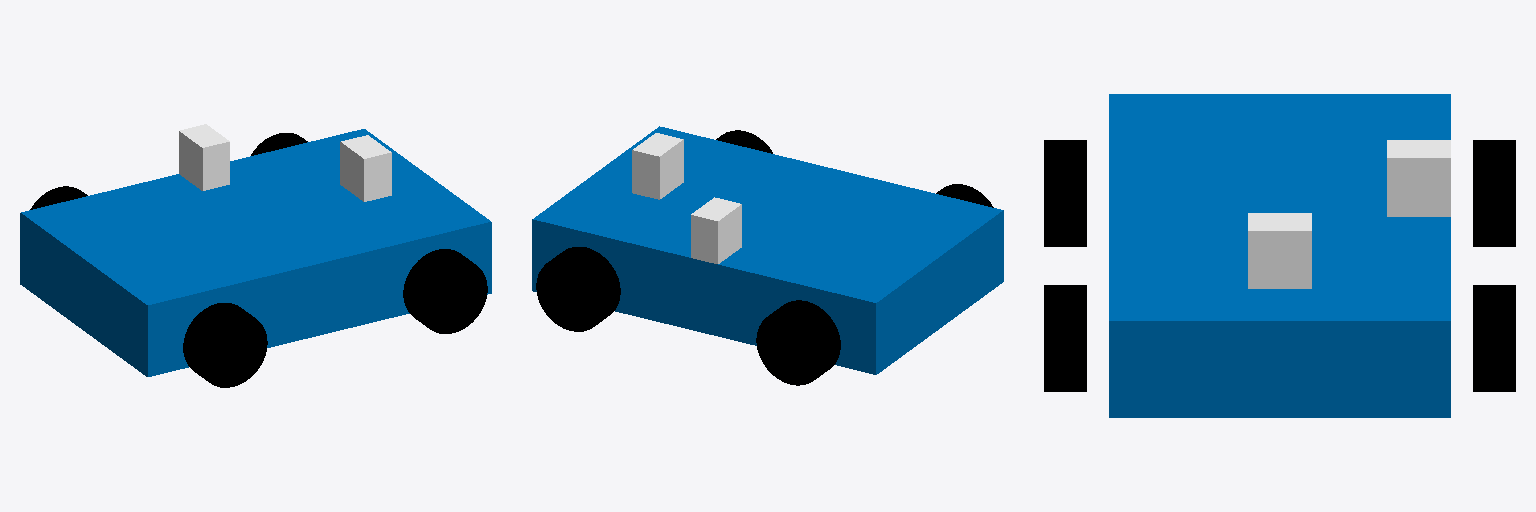
robot.urdf — clean_car:
<?xml version="1.0"?> 
<robot name="clean_car">

    <link name="base_footprint">
        <visual>
            <geometry>
                <box size="0 0 0"/>
            </geometry>

            <origin rpy="0 0 0" xyz="0 0 0"/>
        </visual>
    </link>
    
    <joint name="base_footptint_joint" type="fixed">  
        <axis xyz="0 0 1"/>  
        <parent link="base_footprint"/>  
        <child link="base_link"/>  
        <origin rpy="0 0 0" xyz="0 0 0.0"/>  
    </joint>


    <link name="base_link">
        <visual>
            <geometry>
                <box size="0.25 .16 .05"/>
            </geometry>

            <origin rpy="0 0 0" xyz="0 0 .03"/>

            <material name="blue">
                <color rgba="0 .5 .8 1"/>
            </material>
        </visual>
    </link>

    <link name="left_front_wheel">  
        <visual>  
            <geometry>  
                <cylinder length=".02" radius="0.025"/>  
            </geometry>  

            <material name="black">  
                <color rgba="0 0 0 1"/>  
            </material>  
        </visual>  
    </link>  
    
    <joint name="left_front_wheel_joint" type="fixed">  
        <axis xyz="0 0 1"/>  
        <parent link="base_link"/>  
        <child link="left_front_wheel"/>  
        <origin rpy="1.57075 0 0" xyz="0.08 0.1 0.025"/>  
        <limit effort="100" velocity="100"/>  
        <joint_properties damping="0.0" friction="0.0"/>  
    </joint>  
    
    <link name="right_front_wheel">  
        <visual>  
            <geometry>  
                <cylinder length=".02" radius="0.025"/>  
            </geometry>  

            <material name="black">  
                <color rgba="0 0 0 1"/>  
            </material>  
        </visual>  
    </link>  
    
    <joint name="right_front_wheel_joint" type="fixed">  
        <axis xyz="0 0 1"/>  
        <parent link="base_link"/>  
        <child link="right_front_wheel"/>  
        <origin rpy="1.57075 0 0" xyz="0.08 -0.1 0.025"/>  
        <limit effort="100" velocity="100"/>  
        <joint_properties damping="0.0" friction="0.0"/>  
    </joint>  

    <link name="left_back_wheel">  
        <visual>  
            <geometry>  
                <cylinder length=".02" radius="0.025"/>  
            </geometry>  

            <material name="black">  
                <color rgba="0 0 0 1"/>  
            </material>  
        </visual>  
    </link>  
    
    <joint name="left_back_wheel_joint" type="fixed">  
        <axis xyz="0 0 1"/>  
        <parent link="base_link"/>  
        <child link="left_back_wheel"/>  
        <origin rpy="1.57075 0 0" xyz="-0.08 0.1 0.025"/>  
        <limit effort="100" velocity="100"/>  
        <joint_properties damping="0.0" friction="0.0"/>  
    </joint> 

    <link name="right_back_wheel">  
        <visual>  
            <geometry>  
                <cylinder length=".02" radius="0.025"/>  
            </geometry>  

            <material name="black">  
                <color rgba="0 0 0 1"/>  
            </material>  
        </visual>  
    </link>  
    
    <joint name="right_back_wheel_joint" type="fixed">  
        <axis xyz="0 0 1"/>  
        <parent link="base_link"/>  
        <child link="right_back_wheel"/>  
        <origin rpy="1.57075 0 0" xyz="-0.08 -0.1 0.025"/>  
        <limit effort="100" velocity="100"/>  
        <joint_properties damping="0.0" friction="0.0"/>  
    </joint> 

    <link name="laser_frame">  
        <visual>  
            <geometry>  
                <box size=".02 .03 .03"/>  
            </geometry>  
            <material name="white">
                <color rgba="1 1 1 1"/>  
            </material>  
        </visual>  
    </link>  
    
    <joint name="laser" type="fixed">  
        <parent link="base_link"/>  
        <child link="laser_frame"/>  
        <origin rpy="0 0 3.14" xyz="0.08 0 0.07"/>  
    </joint>  
    <link name="imu_frame">  
        <visual>  
            <geometry>  
                <box size=".02 .03 .03"/>  
            </geometry>  
            <material name="white">
                <color rgba="1 1 1 1"/>  
            </material>  
        </visual>  
    </link>  
    
    <joint name="imu" type="fixed">  
        <parent link="base_link"/>  
        <child link="imu_frame"/>  
        <origin xyz="0 0.065 0.07"/>  
    </joint> 
</robot>

--- Facts derived from the render (not from the file) ---
3 views of the same robot in one strip: view 1: azimuth 30°, elevation 25°; view 2: azimuth 150°, elevation 25°; view 3: azimuth 270°, elevation 25° (orthographic).
Model clean_car with 8 links and 7 joints (7 fixed), rooted at base_footprint, posed every joint at zero.
Links seen in each view (by area): view 1: base_link, right_back_wheel, right_front_wheel, laser_frame, imu_frame, left_back_wheel, left_front_wheel; view 2: base_link, left_front_wheel, left_back_wheel, laser_frame, imu_frame, right_front_wheel, right_back_wheel; view 3: base_link, imu_frame, laser_frame, left_front_wheel, right_front_wheel, left_back_wheel, right_back_wheel.
Link boxes in pixels (<box>): base_link: <box>20,129,491,376</box>; right_back_wheel: <box>183,303,267,387</box>; right_front_wheel: <box>403,249,487,333</box>; laser_frame: <box>340,135,391,201</box>; imu_frame: <box>179,124,229,190</box>; left_back_wheel: <box>30,186,87,209</box>; left_front_wheel: <box>251,133,307,155</box>; base_link: <box>532,126,1003,374</box>; left_front_wheel: <box>536,247,620,331</box>; left_back_wheel: <box>756,300,840,385</box>; laser_frame: <box>632,133,683,199</box>; imu_frame: <box>691,197,741,263</box>; right_front_wheel: <box>716,130,772,153</box>; right_back_wheel: <box>936,184,993,207</box>; base_link: <box>1109,94,1450,417</box>; imu_frame: <box>1387,140,1450,216</box>; laser_frame: <box>1248,213,1311,288</box>; left_front_wheel: <box>1473,285,1515,391</box>; right_front_wheel: <box>1044,285,1086,391</box>; left_back_wheel: <box>1473,140,1515,246</box>; right_back_wheel: <box>1044,140,1086,246</box>.
Size in the robot's own frame: 0.25 by 0.22 by 0.085 metres.
Geometry: primitives only (box / cylinder / sphere), no mesh files.